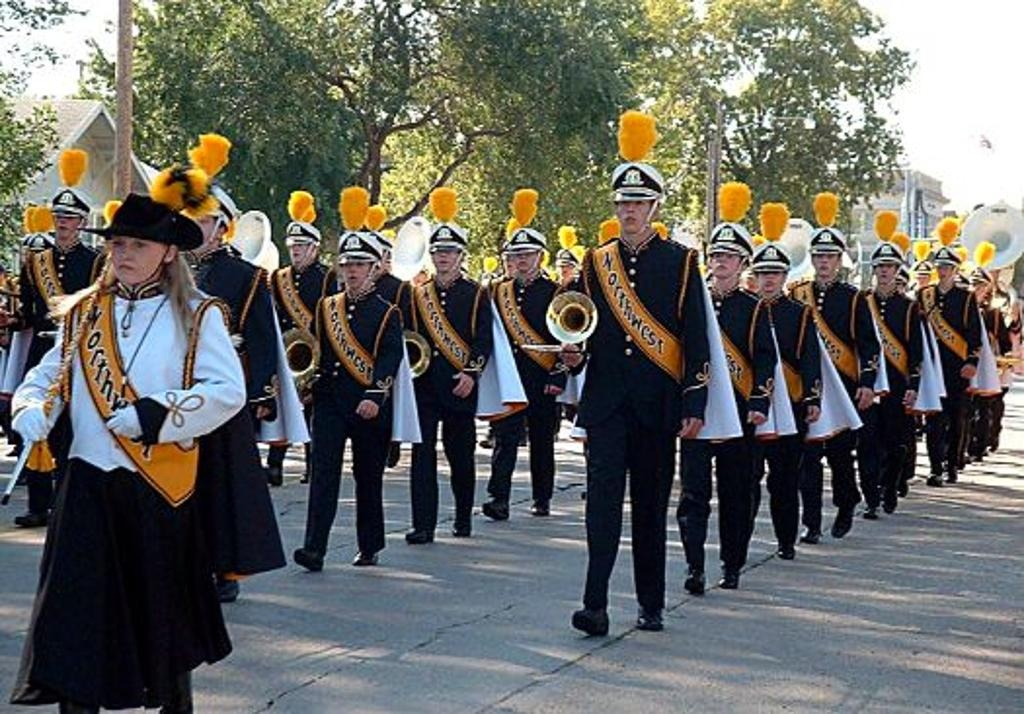human_face: (110, 231, 164, 283), (179, 208, 215, 248), (616, 196, 650, 232), (343, 256, 371, 287), (710, 248, 740, 276), (54, 212, 80, 236), (433, 246, 457, 270), (812, 251, 836, 275), (758, 269, 782, 291), (874, 260, 896, 282), (288, 240, 308, 262), (740, 259, 760, 281), (514, 250, 534, 270), (936, 264, 952, 280), (890, 276, 904, 294), (504, 252, 516, 272), (558, 262, 572, 276), (915, 273, 929, 287)
